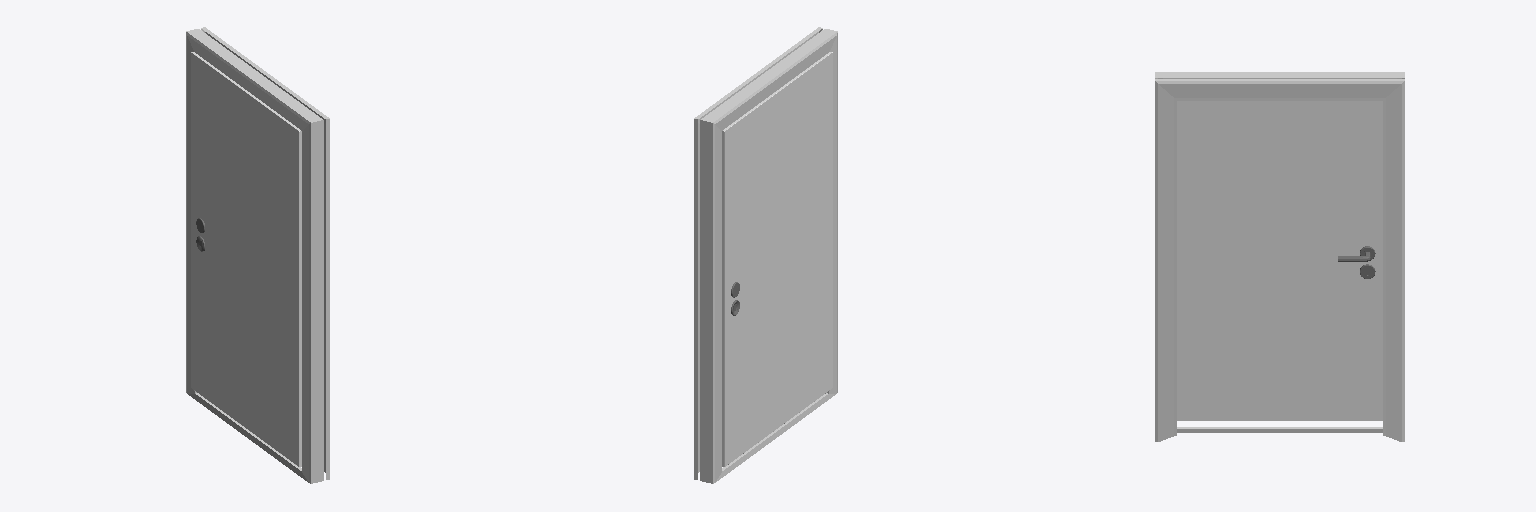
Rendered from door.obj.
3 views of the same model, side by side, from view 1: azimuth 30°, elevation 25°; view 2: azimuth 150°, elevation 25°; view 3: azimuth 270°, elevation 25° (orthographic).
Parts seen in each view (by area): view 1: Door:Wall group3 Door:polySurface1 polySurface44, Door:Wall group3 Door:polySurface1 polySurface38, Door:Elektric Door:Wall group3 Door:polySurface1 polySurface38, Door:Elektric Door:Wall group3 Door:polySurface1 polySurface44; view 2: Door:Wall group3 Door:polySurface1 polySurface44, Door:Elektric Door:Wall group3 Door:polySurface1 polySurface38, Door:Wall group3 Door:polySurface1 polySurface38, Door:Elektric Door:Wall group3 Door:polySurface1 polySurface44; view 3: Door:Elektric Door:Wall group3 Door:polySurface1 polySurface44, Door:Wall group3 Door:polySurface1 polySurface38, Door:Elektric Door:Wall group3 Door:polySurface1 polySurface38.
Part boxes in pixels (left/top/right/bottom): Door:Wall group3 Door:polySurface1 polySurface44: left=191, top=52, right=298, bottom=465; Door:Wall group3 Door:polySurface1 polySurface38: left=186, top=32, right=325, bottom=483; Door:Elektric Door:Wall group3 Door:polySurface1 polySurface38: left=186, top=27, right=329, bottom=483; Door:Elektric Door:Wall group3 Door:polySurface1 polySurface44: left=192, top=52, right=301, bottom=466; Door:Wall group3 Door:polySurface1 polySurface44: left=725, top=52, right=832, bottom=465; Door:Elektric Door:Wall group3 Door:polySurface1 polySurface38: left=694, top=27, right=837, bottom=483; Door:Wall group3 Door:polySurface1 polySurface38: left=698, top=32, right=837, bottom=483; Door:Elektric Door:Wall group3 Door:polySurface1 polySurface44: left=722, top=52, right=831, bottom=466; Door:Elektric Door:Wall group3 Door:polySurface1 polySurface44: left=1177, top=101, right=1382, bottom=420; Door:Wall group3 Door:polySurface1 polySurface38: left=1158, top=78, right=1404, bottom=441; Door:Elektric Door:Wall group3 Door:polySurface1 polySurface38: left=1155, top=72, right=1404, bottom=441.
Size of the model in its own units: 0.6709 by 9.54 by 5.98.